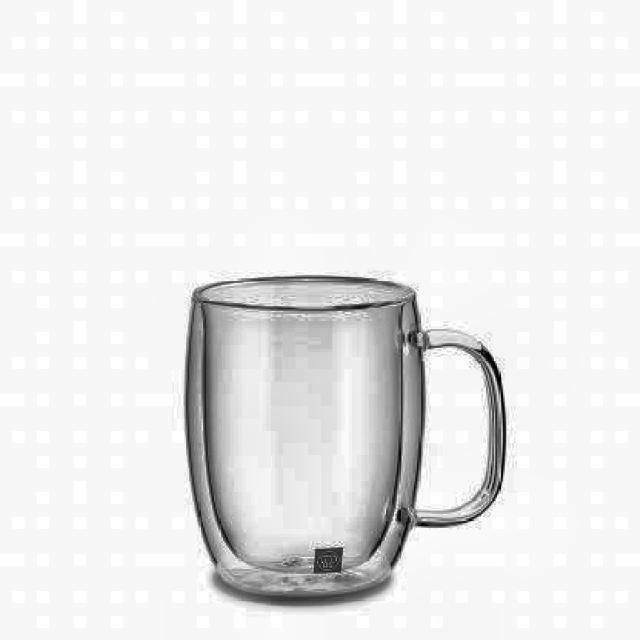Mug: (184, 272, 507, 598)
